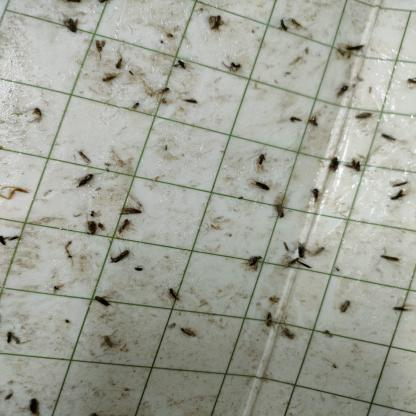prays_oleae: (242, 249, 262, 277), (61, 14, 80, 43), (344, 38, 369, 60), (73, 170, 97, 192), (249, 176, 271, 198), (378, 248, 400, 270), (75, 143, 93, 169), (110, 245, 132, 266), (334, 78, 353, 102), (392, 296, 412, 318), (92, 288, 109, 312), (266, 288, 284, 310), (166, 286, 184, 308), (336, 298, 352, 321), (280, 318, 294, 344), (177, 323, 196, 342), (206, 13, 222, 35), (94, 35, 107, 62), (121, 202, 144, 217), (326, 151, 341, 174), (353, 107, 372, 125), (313, 239, 326, 265), (101, 330, 115, 354), (348, 153, 364, 174), (254, 150, 267, 174), (114, 217, 132, 234), (275, 201, 291, 219), (295, 241, 309, 261), (223, 59, 240, 75), (381, 130, 396, 148), (389, 186, 408, 200), (285, 254, 298, 274), (99, 72, 116, 87), (392, 174, 410, 188), (310, 184, 321, 206), (114, 51, 125, 72), (32, 104, 43, 121), (281, 238, 292, 255), (265, 311, 274, 327)
